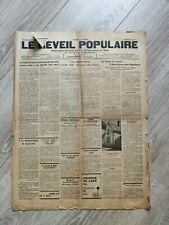paper: (12, 32, 150, 210)
